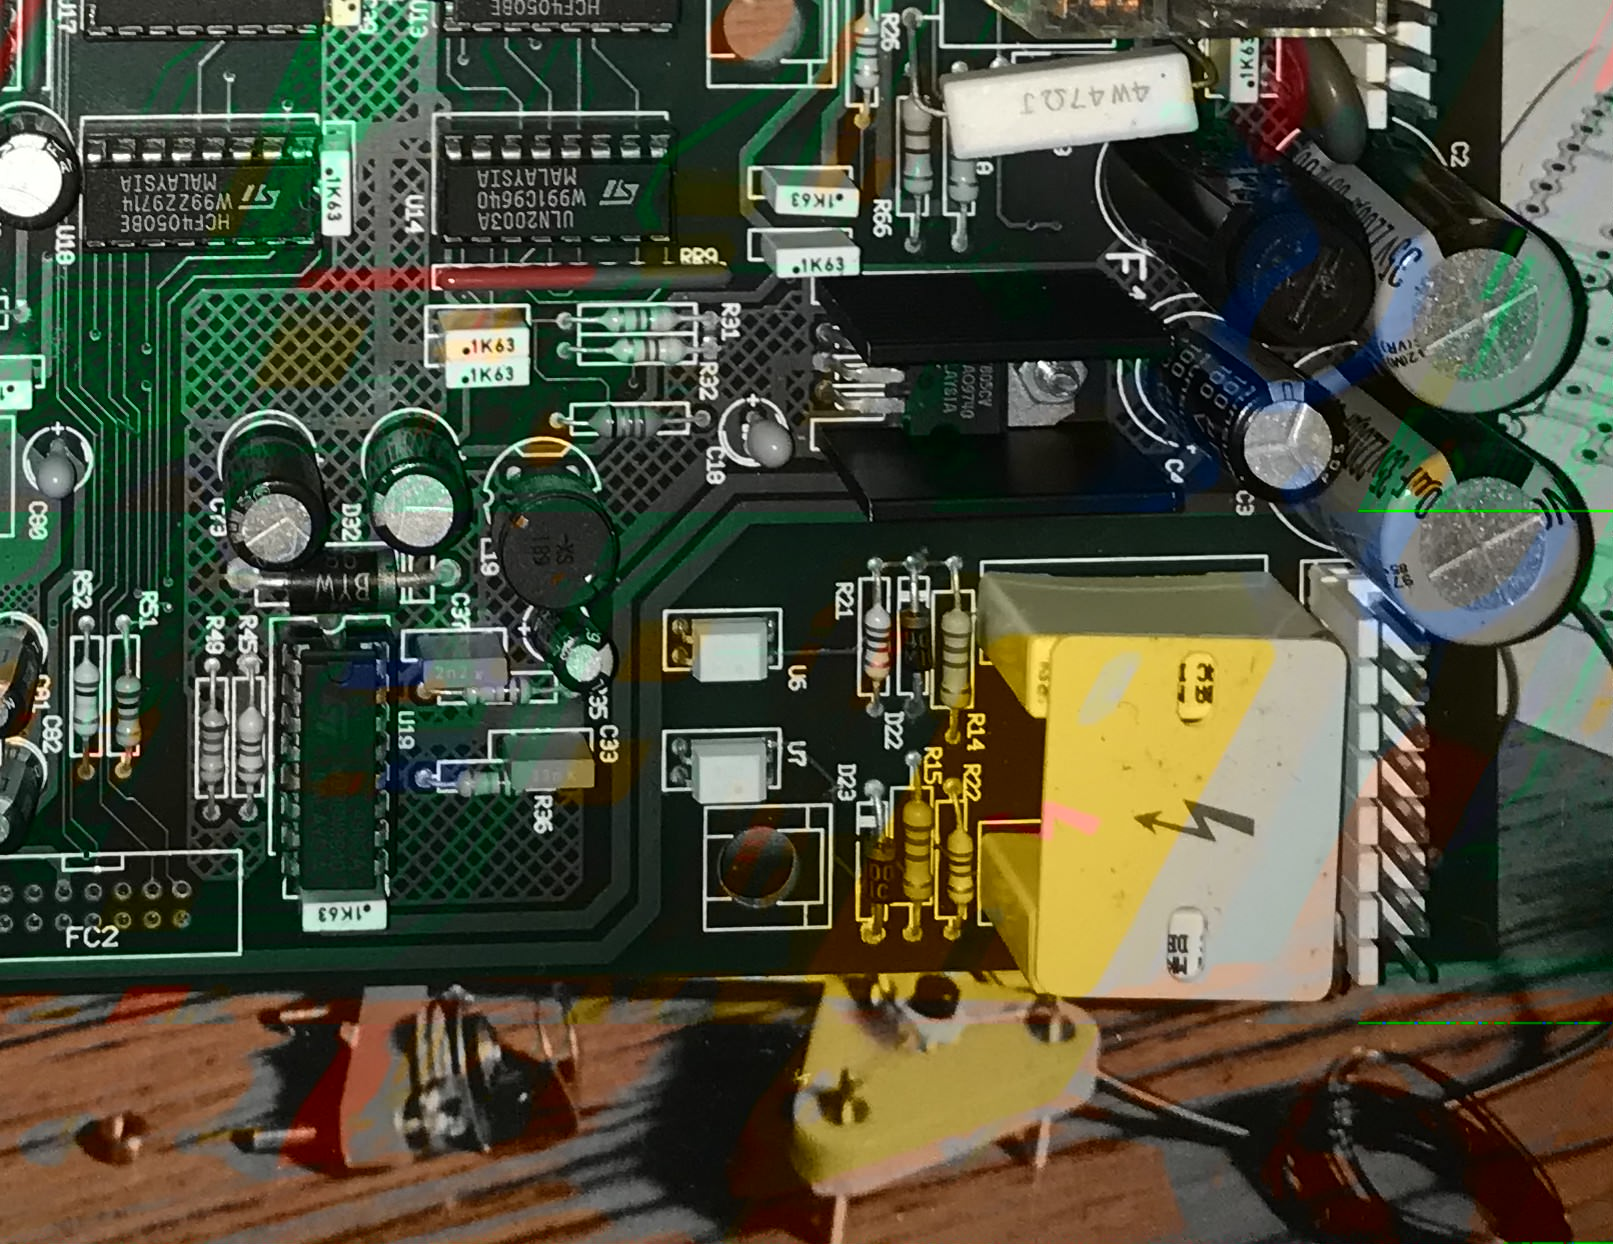Capacitor: (1283, 106, 1587, 421), (1288, 344, 1589, 649), (1138, 302, 1352, 506), (216, 418, 333, 574), (362, 409, 475, 558), (1, 103, 84, 235), (528, 598, 624, 699), (1, 608, 50, 744), (1, 747, 46, 856)
Diode: (272, 548, 411, 621), (896, 593, 935, 685), (863, 828, 899, 913)
Resistor: (897, 90, 942, 204), (579, 402, 688, 443), (899, 796, 938, 907), (848, 4, 887, 108), (940, 598, 972, 723), (441, 762, 546, 798), (444, 676, 551, 711), (946, 119, 986, 210), (584, 303, 699, 335), (236, 681, 268, 796), (946, 811, 980, 916), (68, 648, 102, 751), (108, 661, 145, 755), (193, 698, 227, 798), (861, 592, 895, 691), (597, 335, 699, 365)
